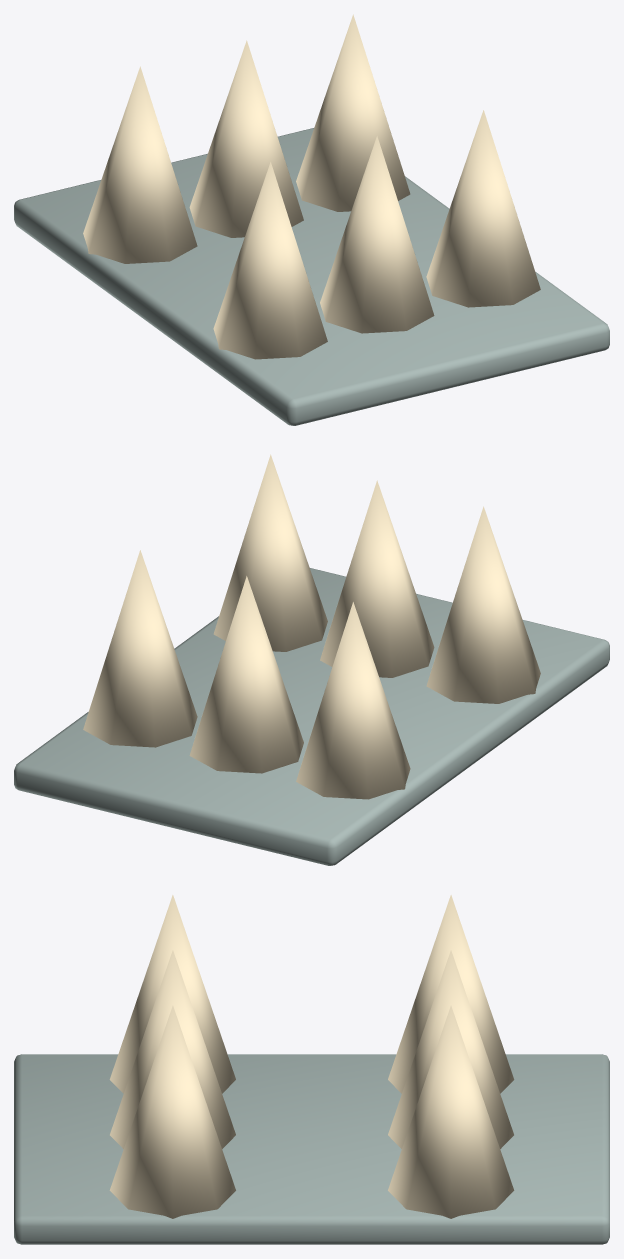
File: Spike.fbx
3 views of the same model, one above another, from view 1: azimuth 30°, elevation 25°; view 2: azimuth 150°, elevation 25°; view 3: azimuth 270°, elevation 25° (orthographic). The views are drawn at different scales.
Visible parts, largest first — view 1: Base, Thorn.001, Thorn, Thorn.003, Thorn.005, Thorn.004, Thorn.002; view 2: Base, Thorn, Thorn.001, Thorn.002, Thorn.004, Thorn.005, Thorn.003; view 3: Base, Thorn.004, Thorn.005, Thorn, Thorn.001, Thorn.002, Thorn.003.
Part boxes in pixels (x1=…): Base: x1=14, y1=128, x2=609, y2=425; Thorn.001: x1=213, y1=162, x2=327, y2=359; Thorn: x1=83, y1=66, x2=197, y2=263; Thorn.003: x1=320, y1=136, x2=434, y2=333; Thorn.005: x1=426, y1=110, x2=540, y2=307; Thorn.004: x1=296, y1=14, x2=410, y2=211; Thorn.002: x1=189, y1=40, x2=303, y2=237; Base: x1=14, y1=568, x2=609, y2=865; Thorn: x1=296, y1=602, x2=410, y2=799; Thorn.001: x1=426, y1=506, x2=540, y2=703; Thorn.002: x1=189, y1=576, x2=303, y2=773; Thorn.004: x1=83, y1=550, x2=197, y2=747; Thorn.005: x1=213, y1=454, x2=327, y2=651; Thorn.003: x1=320, y1=480, x2=434, y2=677; Base: x1=14, y1=1054, x2=609, y2=1244; Thorn.004: x1=388, y1=1005, x2=514, y2=1218; Thorn.005: x1=109, y1=1005, x2=235, y2=1218; Thorn: x1=388, y1=895, x2=514, y2=1093; Thorn.001: x1=109, y1=895, x2=235, y2=1093; Thorn.002: x1=388, y1=950, x2=513, y2=1148; Thorn.003: x1=110, y1=950, x2=235, y2=1148.
Size of the model in its own units: 1 by 0.595 by 1.5.
